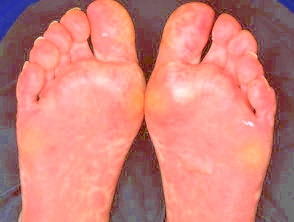SJS-TEN: (142, 0, 287, 222), (11, 0, 147, 222)
